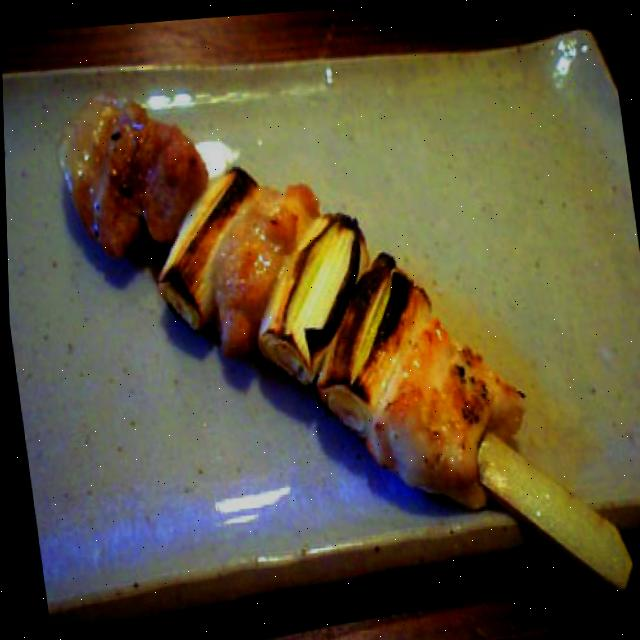烧串烤肉: (33, 31, 640, 640)
